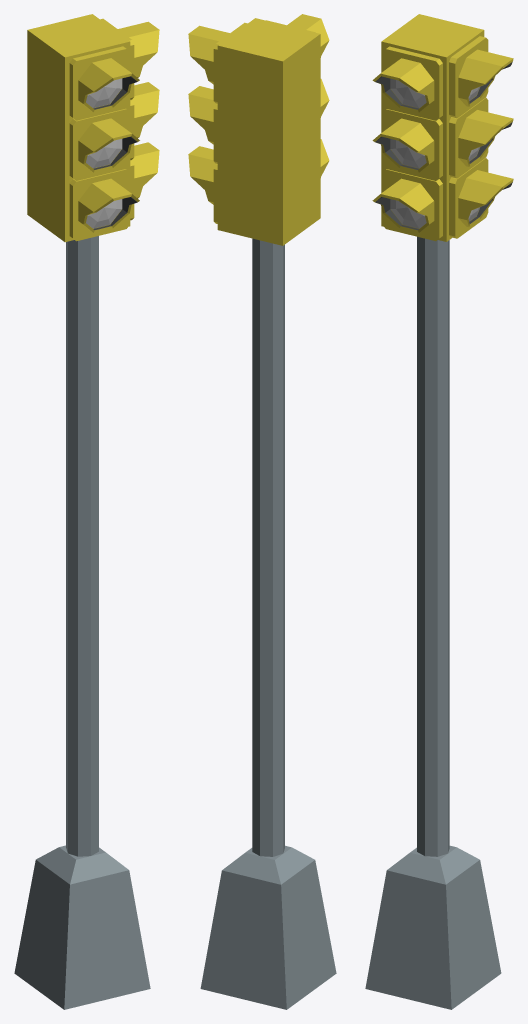
The model's file is Traffic_light_3.fbx.
3 renders of one model, left to right at view 1: azimuth 30°, elevation 25°; view 2: azimuth 150°, elevation 25°; view 3: azimuth 330°, elevation 25°, orthographic.
Parts seen in each view (by area): view 1: Traffic_light_1; view 2: Traffic_light_1; view 3: Traffic_light_1.
Part boxes in pixels (<box>): Traffic_light_1: <box>14,14,159,1009</box>; Traffic_light_1: <box>188,14,336,1009</box>; Traffic_light_1: <box>365,14,513,1009</box>.
Bounding box in the file's own units: 38.59 × 300 × 38.3.
7 materials, 1 textured.
